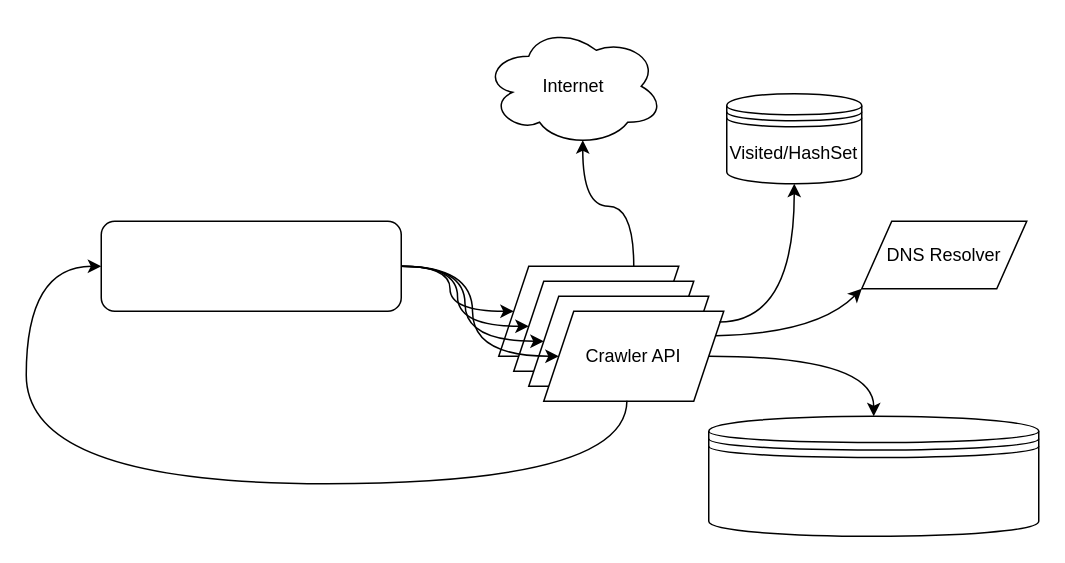
The diagram is 1065 pixels wide and 563 high, and some of its shapes have lost their labels. Each missing label, with the centre of its shape:
"Frontier Queue" goes at point 250,265.
"Page Storage" goes at point 873,475.
